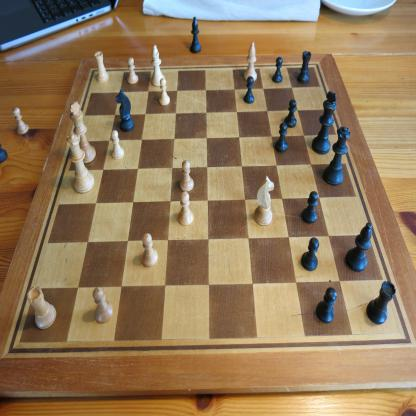black-bishop: (345, 222, 372, 272), (190, 16, 202, 54)
black-king: (311, 91, 338, 155)
black-knight: (115, 89, 135, 133)
black-pawn: (316, 286, 338, 324), (300, 236, 320, 271), (301, 190, 319, 224), (274, 122, 288, 152), (284, 99, 297, 128), (272, 56, 284, 84), (243, 76, 255, 104)
black-queen: (323, 126, 351, 186)
black-rook: (366, 280, 397, 325), (296, 50, 312, 84)
white-bishop: (150, 44, 166, 86), (244, 41, 258, 81)
white-king: (69, 101, 97, 164)
white-knight: (254, 175, 274, 227)
white-pawn: (92, 286, 114, 324), (141, 232, 159, 268), (178, 192, 194, 226), (12, 107, 29, 136), (179, 160, 194, 192), (110, 130, 124, 160), (128, 57, 140, 85), (158, 78, 170, 106)
white-queen: (66, 133, 95, 194)
white-rook: (26, 286, 57, 330), (94, 51, 110, 84)
